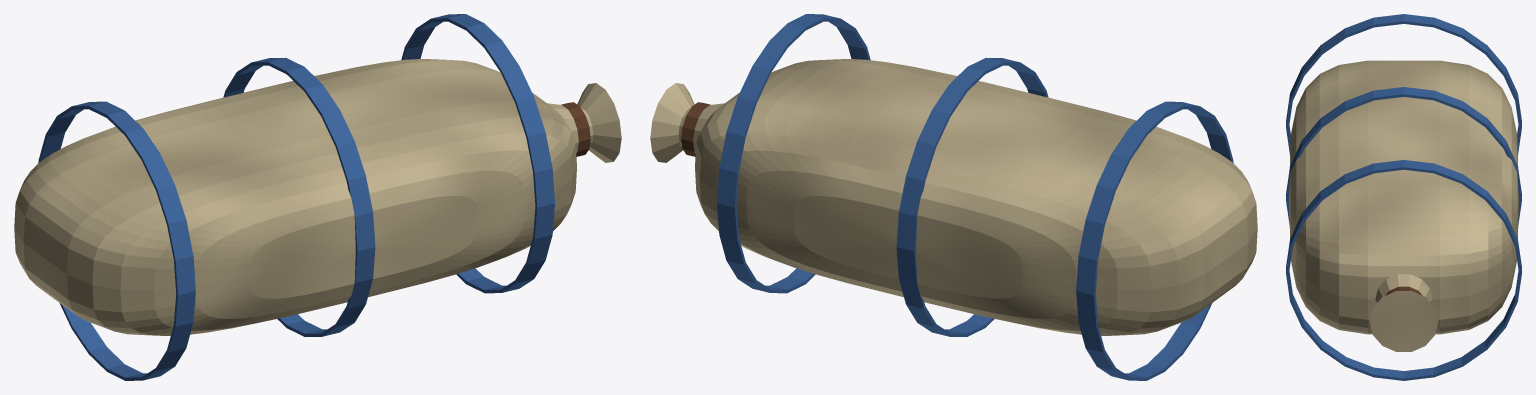
Rendered from saco_correio.glb.
3 views of the same model, side by side, from view 1: azimuth 30°, elevation 25°; view 2: azimuth 150°, elevation 25°; view 3: azimuth 270°, elevation 25° (orthographic). The views are drawn at different scales.
Visible parts, largest first — view 1: saco_correio_lona_crua, saco_correio_azul_correio, saco_correio_madeira_escura; view 2: saco_correio_lona_crua, saco_correio_azul_correio, saco_correio_madeira_escura; view 3: saco_correio_lona_crua, saco_correio_azul_correio.
Boxes of the visible parts, x1,y1,x2,y2 form: saco_correio_lona_crua: [14, 59, 621, 335]; saco_correio_azul_correio: [38, 14, 554, 380]; saco_correio_madeira_escura: [561, 102, 590, 156]; saco_correio_lona_crua: [650, 59, 1257, 335]; saco_correio_azul_correio: [717, 14, 1233, 380]; saco_correio_madeira_escura: [681, 102, 710, 156]; saco_correio_lona_crua: [1289, 60, 1518, 351]; saco_correio_azul_correio: [1286, 14, 1521, 380].
Bounding box in the file's own units: 0.9283 × 0.41 × 0.41.
4 materials, 2 textured.
